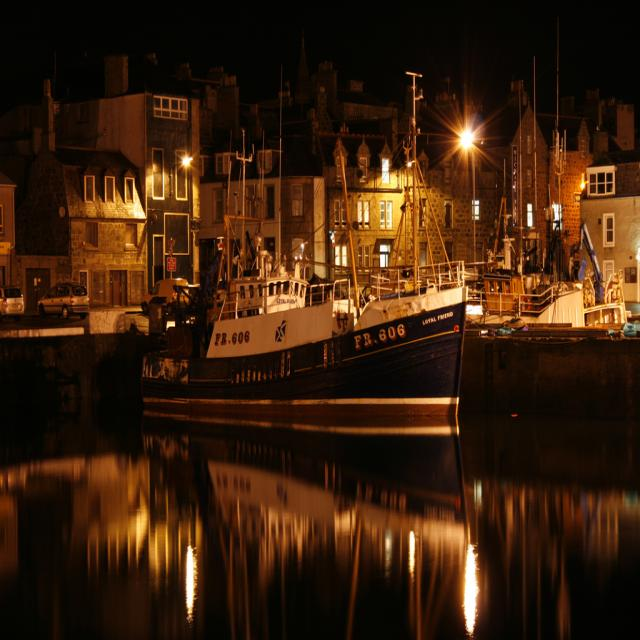Boat: (132, 299, 470, 502)
car: (39, 277, 97, 329), (0, 268, 29, 336)
